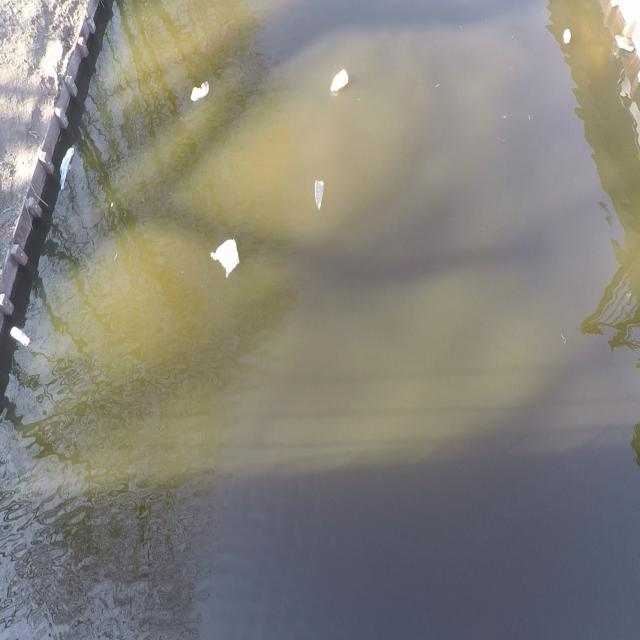Bouteille plastique: (326, 68, 354, 95)
Sac plastique: (206, 234, 243, 285), (59, 142, 76, 201), (309, 176, 332, 216)
